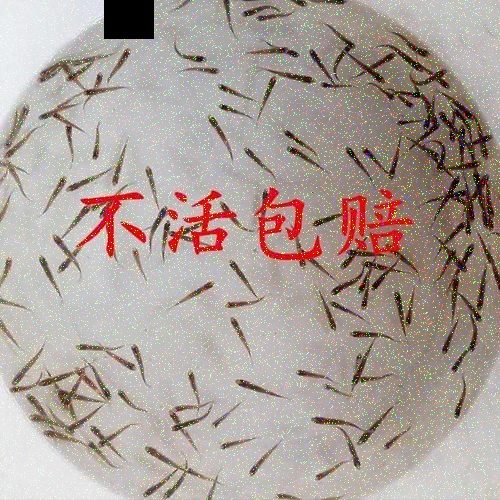fry: (233, 374, 288, 404), (167, 274, 219, 304), (285, 141, 327, 177), (206, 109, 237, 157), (240, 141, 274, 183), (225, 254, 262, 292), (49, 380, 80, 422), (36, 251, 62, 299), (309, 411, 362, 433), (388, 283, 408, 341), (218, 196, 250, 232), (449, 377, 474, 422), (42, 173, 70, 213), (266, 64, 319, 85), (225, 316, 255, 353), (138, 162, 159, 214), (349, 327, 406, 346), (405, 286, 428, 333), (219, 0, 243, 45), (340, 144, 367, 184), (328, 294, 364, 323), (90, 367, 118, 404), (42, 423, 85, 447), (473, 266, 495, 312), (107, 138, 128, 186), (345, 431, 369, 473), (403, 30, 435, 61), (210, 78, 255, 100), (249, 447, 282, 477), (53, 227, 79, 265), (167, 43, 213, 64), (169, 226, 209, 250), (218, 295, 268, 314), (395, 41, 425, 72), (116, 383, 145, 415), (308, 40, 333, 77), (386, 139, 407, 183), (128, 241, 151, 281), (110, 41, 134, 79), (61, 119, 81, 164), (85, 121, 108, 160), (355, 417, 388, 444), (292, 237, 313, 279), (141, 444, 176, 469), (146, 203, 170, 239), (53, 387, 101, 405), (395, 46, 425, 74), (134, 472, 165, 499), (358, 140, 385, 171), (210, 403, 242, 429), (6, 168, 31, 201), (359, 255, 398, 276), (164, 469, 191, 499), (446, 274, 464, 319), (307, 208, 345, 229), (260, 75, 282, 111), (319, 296, 339, 335), (250, 39, 291, 58), (213, 99, 250, 120), (465, 316, 486, 353), (309, 250, 334, 281), (182, 365, 201, 405), (87, 436, 110, 469), (9, 356, 37, 383), (418, 59, 446, 86), (349, 350, 367, 392), (366, 48, 397, 72), (382, 429, 413, 453), (202, 472, 229, 499), (37, 101, 75, 120), (292, 364, 334, 381), (1, 317, 23, 349), (480, 194, 499, 231), (329, 20, 356, 46), (49, 111, 84, 131), (282, 125, 315, 146), (437, 326, 458, 359), (390, 245, 420, 268), (73, 389, 109, 408), (253, 8, 291, 26), (477, 126, 495, 164), (178, 63, 223, 78), (158, 217, 173, 261), (168, 420, 212, 435), (38, 370, 79, 386), (4, 136, 31, 160), (99, 427, 133, 446), (355, 371, 398, 386), (61, 62, 84, 90), (79, 84, 137, 95), (343, 245, 388, 259), (446, 217, 467, 247), (463, 198, 481, 233), (254, 186, 273, 219), (416, 120, 441, 145), (76, 369, 100, 395), (220, 436, 259, 452), (358, 61, 385, 84), (112, 353, 140, 375), (321, 77, 355, 95), (25, 413, 68, 427), (169, 220, 209, 235), (71, 340, 117, 353), (430, 185, 465, 202), (67, 173, 94, 195), (431, 69, 458, 91), (1, 293, 30, 313), (310, 462, 346, 478), (38, 60, 61, 85), (464, 299, 487, 324), (21, 389, 47, 411), (68, 411, 95, 432), (370, 271, 391, 298), (236, 2, 276, 16), (437, 104, 457, 132), (71, 52, 114, 65), (329, 278, 358, 297), (3, 115, 19, 149), (481, 240, 498, 272), (2, 158, 32, 176), (419, 142, 443, 164), (1, 249, 16, 284), (436, 137, 450, 174), (332, 46, 349, 76), (441, 244, 456, 278), (455, 120, 470, 154), (459, 99, 481, 122), (132, 340, 148, 371), (89, 67, 103, 102), (16, 96, 30, 131), (421, 99, 435, 134), (445, 173, 458, 210), (173, 402, 213, 414), (358, 280, 373, 312), (322, 380, 346, 400), (458, 241, 478, 263), (329, 277, 353, 295), (399, 85, 428, 99), (455, 156, 482, 171), (455, 255, 473, 277), (390, 114, 422, 126), (66, 66, 91, 81), (10, 381, 41, 393), (480, 168, 496, 191), (376, 86, 395, 105), (281, 41, 300, 59), (90, 421, 110, 438), (170, 0, 198, 12), (471, 167, 482, 195), (398, 97, 419, 111), (165, 409, 182, 424)
